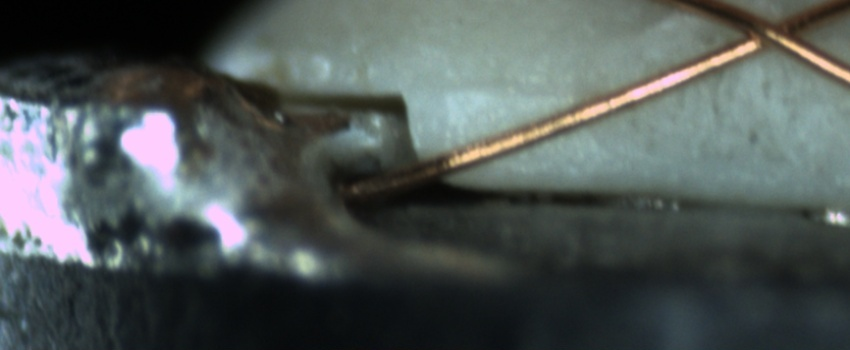CL: (700, 0, 829, 67)
DL: (436, 63, 584, 119)
